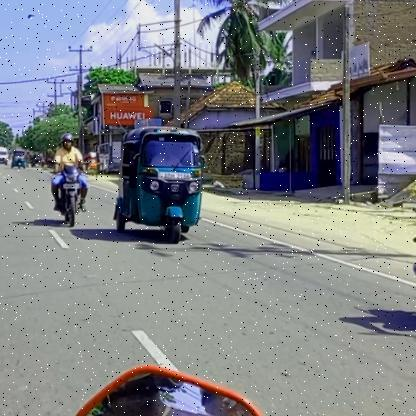motorcycle: (47, 165, 95, 230)
